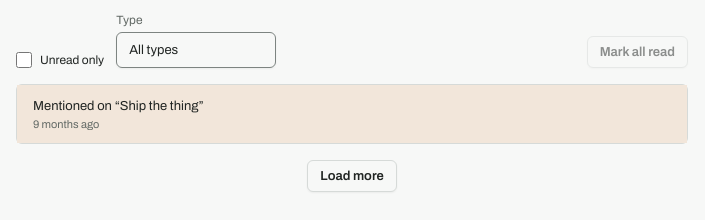
NotificationsList paging and filters › appends the next page instead of replacing what is on screen
This screenshot has width=705, height=220.
Click the button "Load more" at (352, 176), box top-left (307, 160), bottom-right (397, 192)
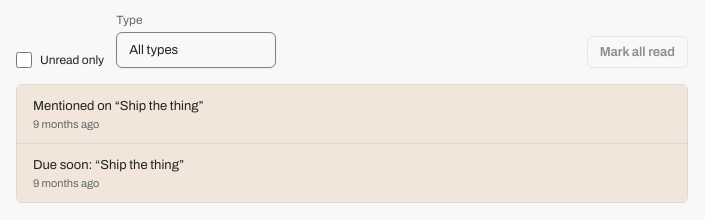
Expected: the text "Mentioned on “Ship the thing”" is shown, top-left (33, 97), bottom-right (204, 115)
Now the text "Due soon: “Ship the thing”" is shown, box top-left (33, 156), bottom-right (184, 174)
Now the button "Load more" is gone
